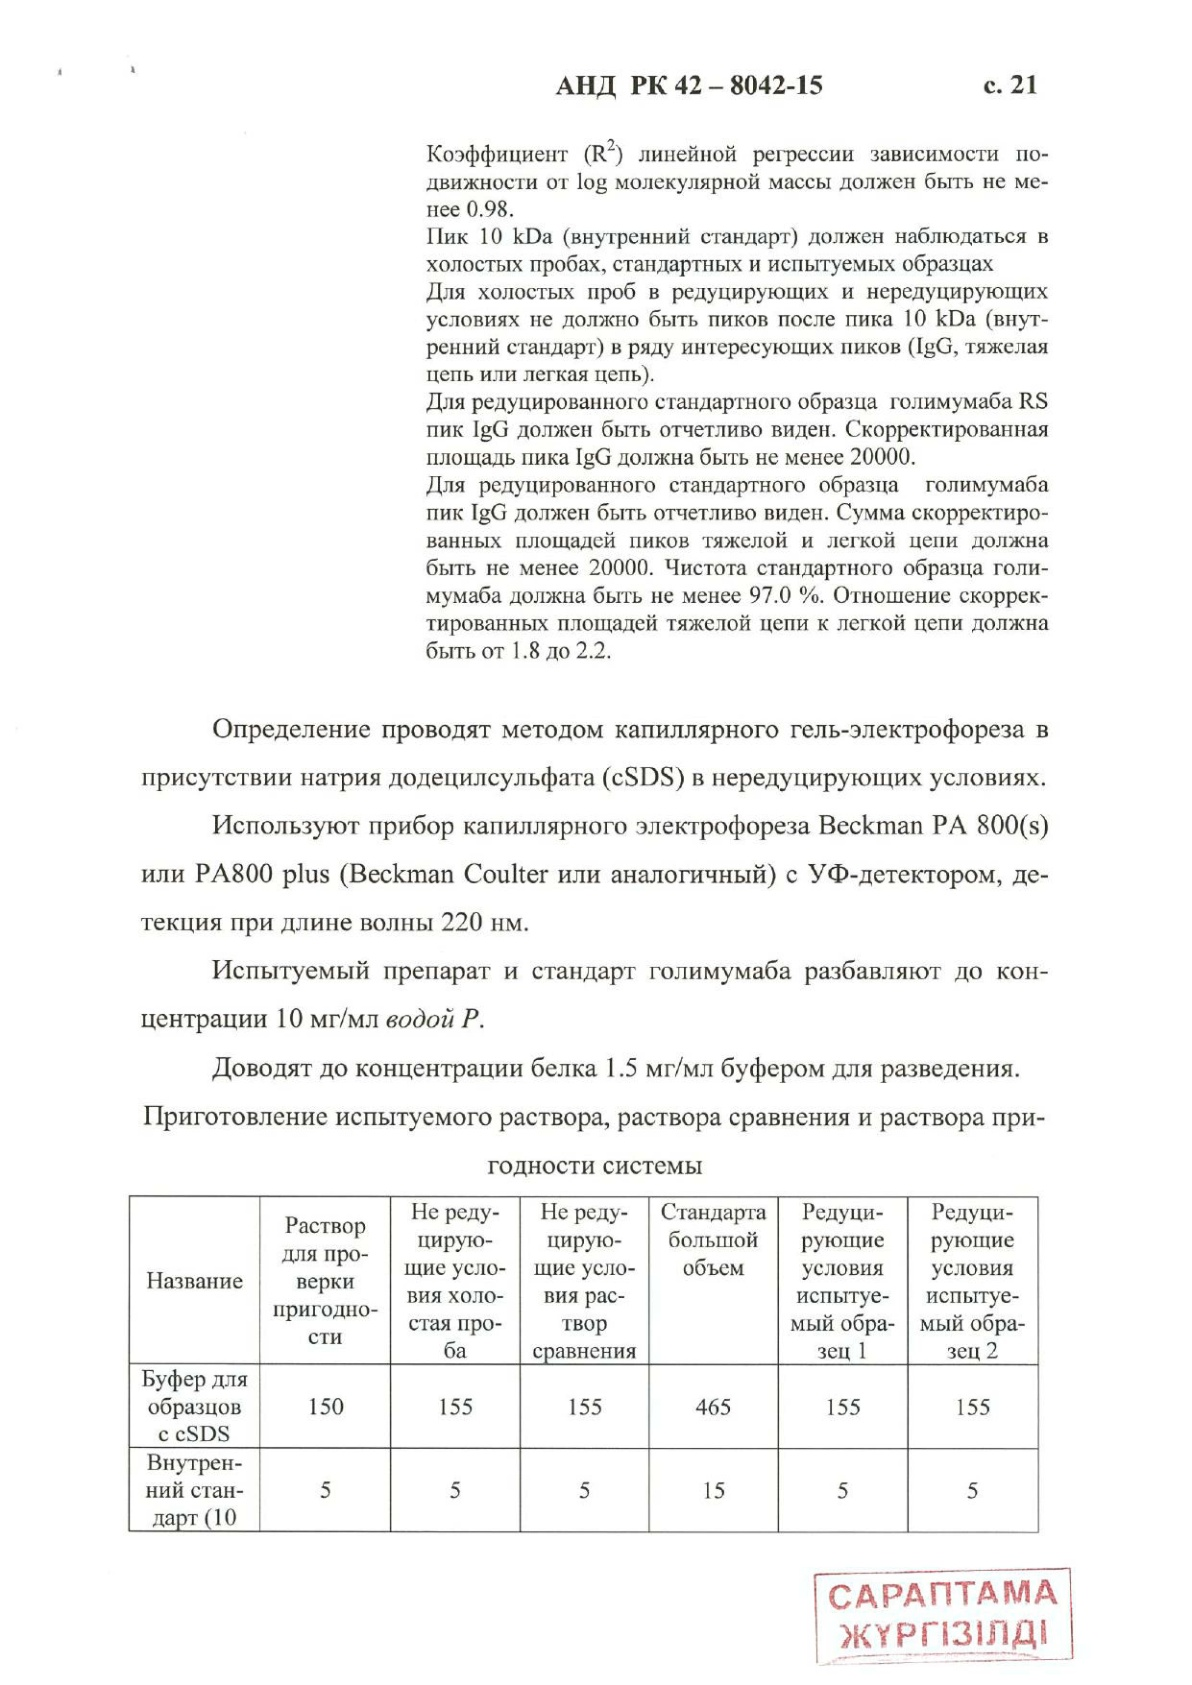full_lined: (128, 1193, 1040, 1534)
